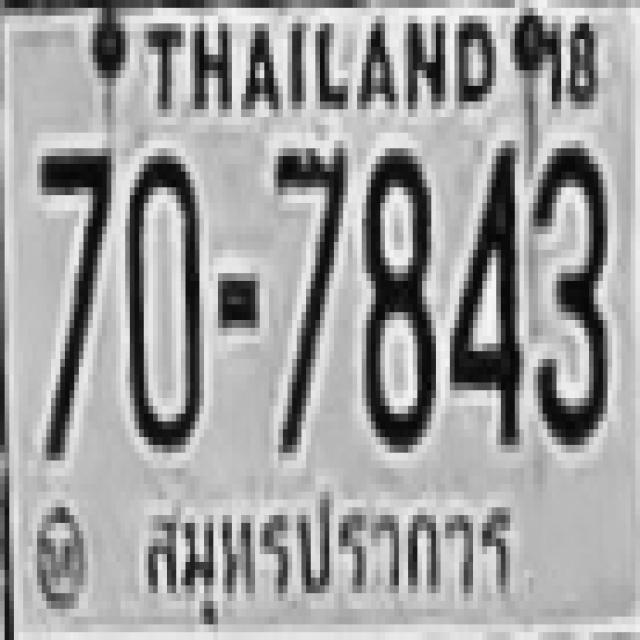0: (126, 148, 200, 445)
3: (529, 141, 603, 437)
4: (446, 137, 520, 441)
7: (37, 140, 107, 452), (274, 140, 343, 445)
8: (362, 140, 431, 445)
SamutPrakan: (137, 472, 530, 635)
